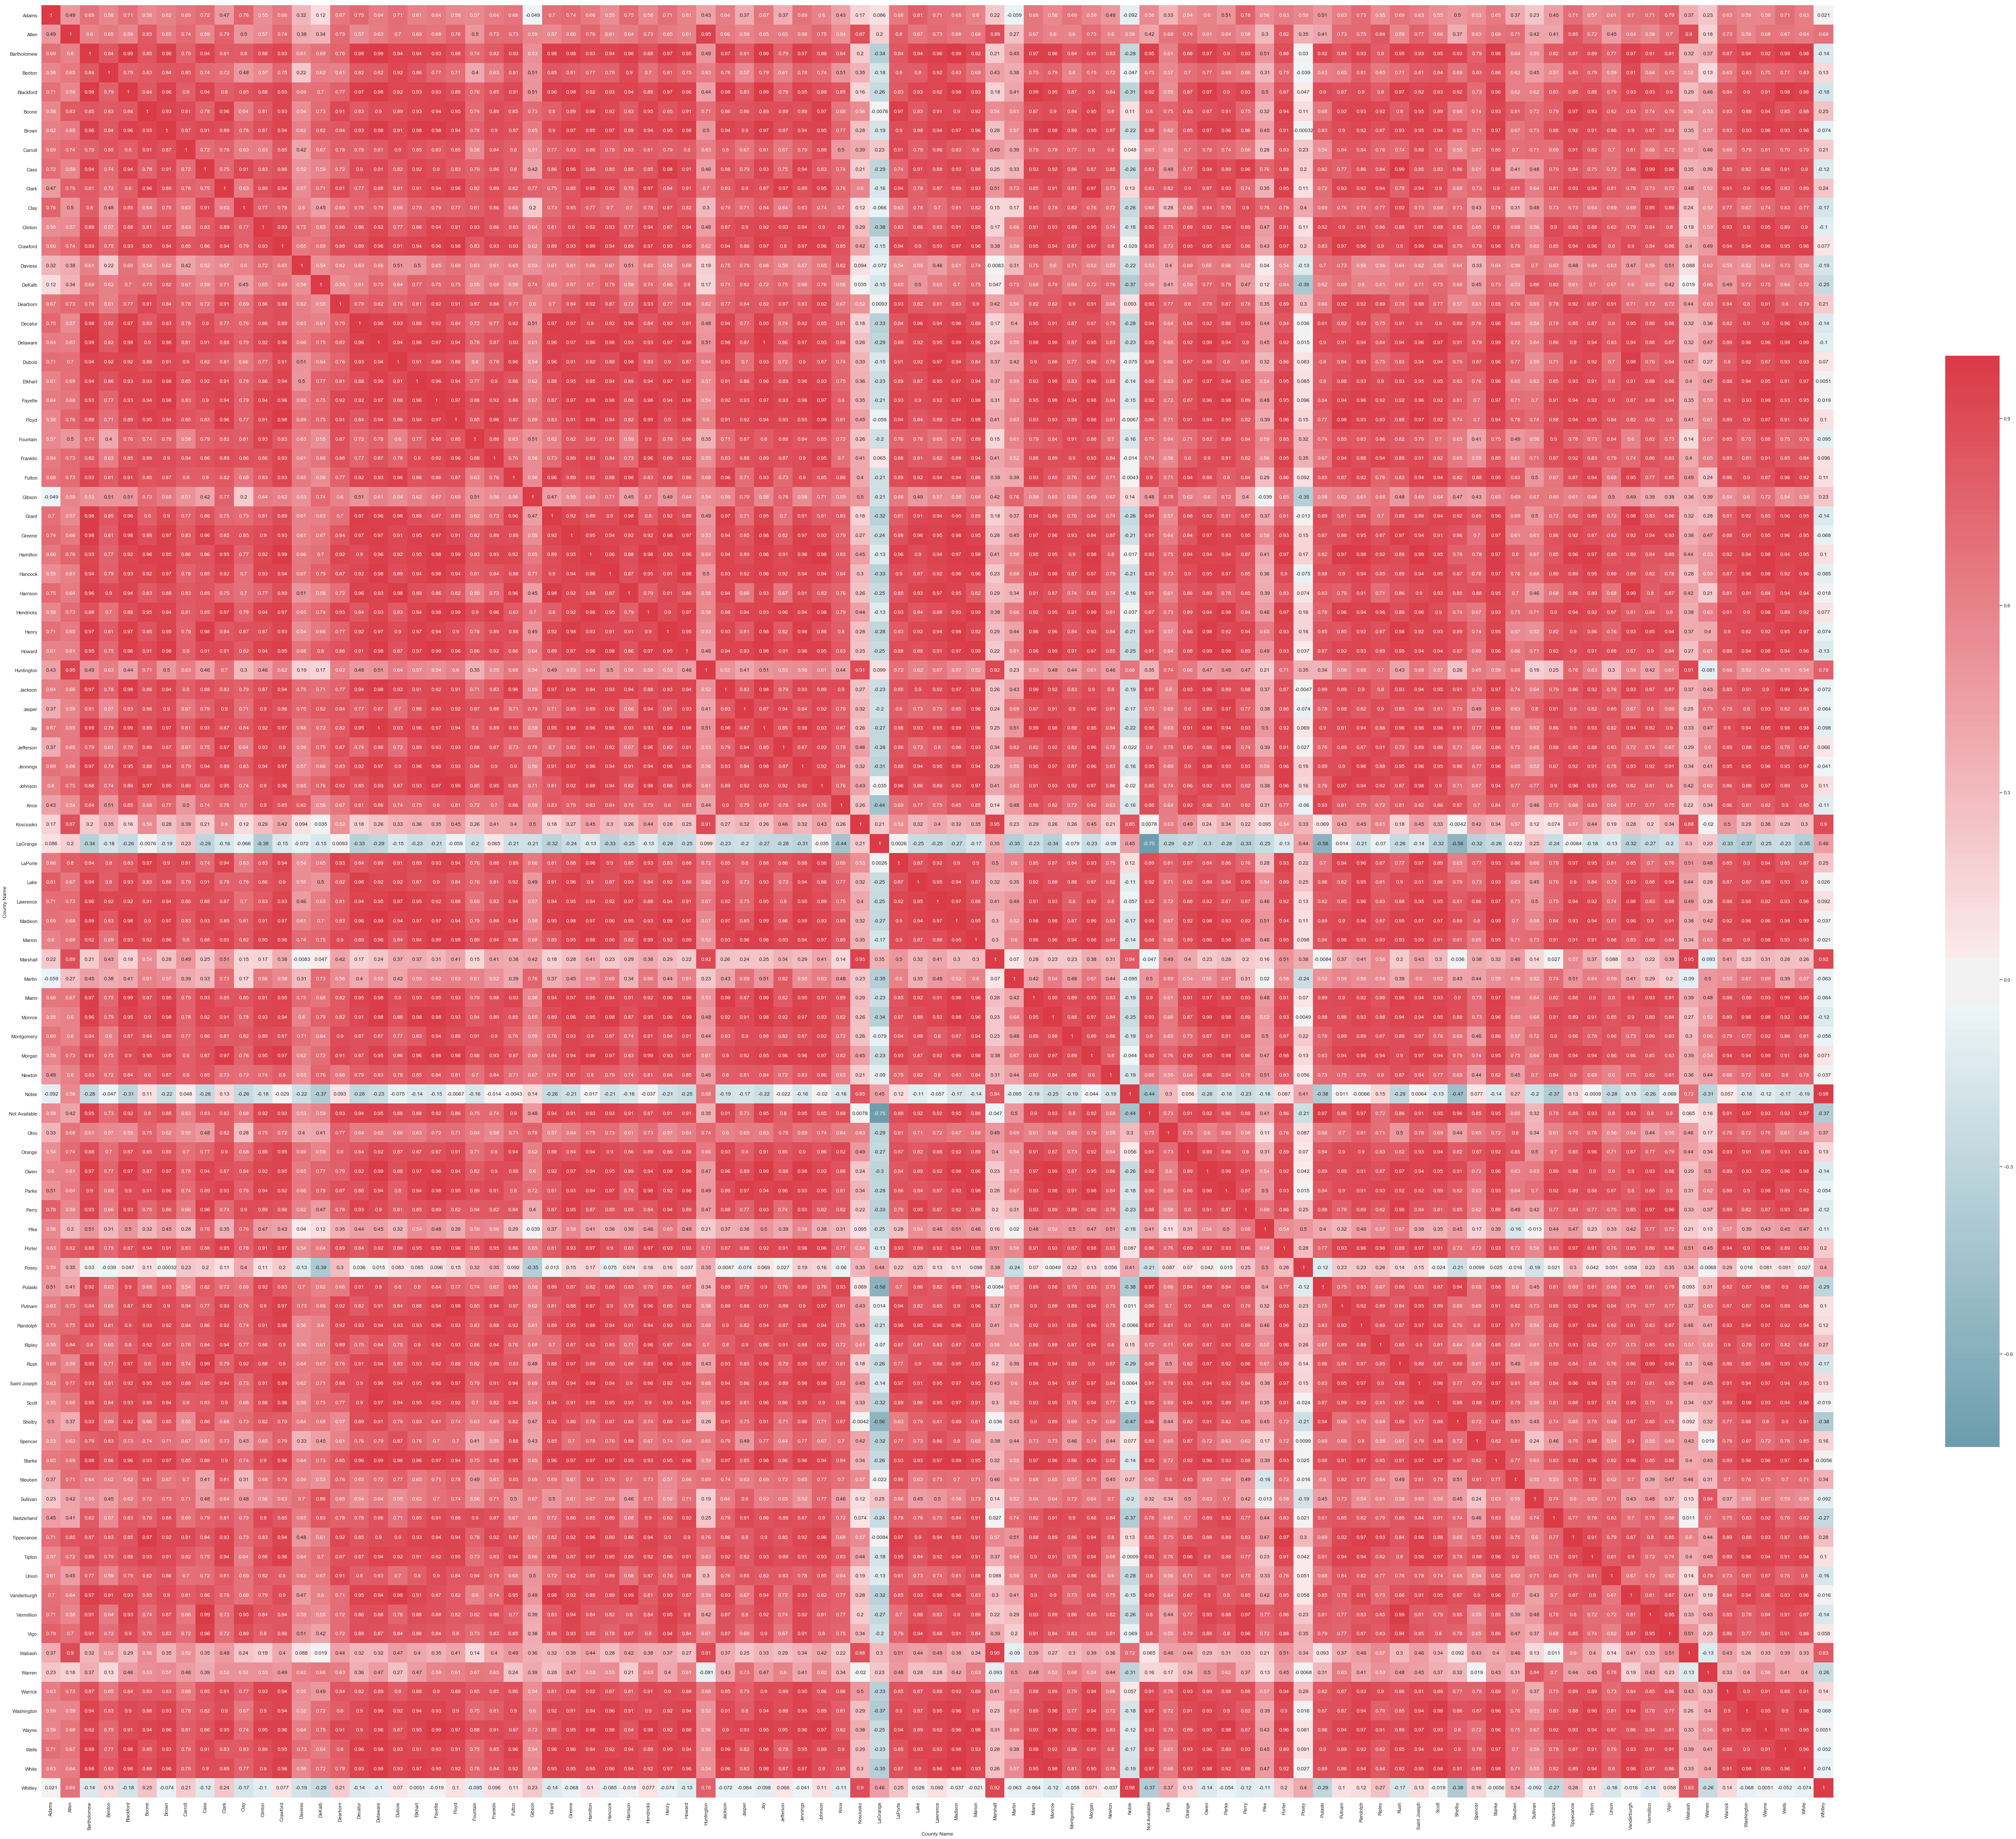

This screenshot's page, from the dashboard's own definition file:
{"tool":"tableau","page":{"name":"County Maps","canvas":[1000,1000],"units":"permille","ordinal":0},"visuals":[{"type":"worksheet","title":"TEDS Map 2008 ","mark":"Multipolygon","box":[5.1,13,95.6,501.2]},{"type":"worksheet","title":"TEDS Map 2009","mark":"Multipolygon","box":[100.7,13,96.9,501.2]},{"type":"worksheet","title":"TEDS Map 2010","mark":"Multipolygon","box":[197.6,13,107.1,501.2]},{"type":"worksheet","title":"TEDS Map 2011","mark":"Multipolygon","box":[304.6,13,98.8,501.2]},{"type":"worksheet","title":"TEDS Map 2012","mark":"Multipolygon","box":[403.4,13,96.2,501.2]},{"type":"worksheet","title":"TEDS Map 2013","mark":"Multipolygon","box":[499.7,13,95,501.2]},{"type":"worksheet","title":"TEDS Map 2014","mark":"Multipolygon","box":[594.6,13,95.6,501.2]},{"type":"worksheet","title":"TEDS Map 2015","mark":"Multipolygon","box":[690.2,13,96.2,501.2]},{"type":"worksheet","title":"TEDS Map 2016","mark":"Multipolygon","box":[786.5,13,106.5,501.2]},{"type":"worksheet","title":"TEDS Map 2017","mark":"Multipolygon","box":[892.9,13,102,501.2]},{"type":"blank","box":[5.1,514.2,989.8,472.9]}]}

Visuals, with their boxes on the dashboard's canvas, which has no fixed pixel size, in thousandths of its width and height (x1, y1, x2, y2). These are canvas units, not pixel positions in the 2016x1839 screenshot, which may show the page scaled, cropped or inside an application window:
"TEDS Map 2008 " worksheet (Multipolygon marks): 5/13/101/514
"TEDS Map 2009" worksheet (Multipolygon marks): 101/13/198/514
"TEDS Map 2010" worksheet (Multipolygon marks): 198/13/305/514
"TEDS Map 2011" worksheet (Multipolygon marks): 305/13/403/514
"TEDS Map 2012" worksheet (Multipolygon marks): 403/13/500/514
"TEDS Map 2013" worksheet (Multipolygon marks): 500/13/595/514
"TEDS Map 2014" worksheet (Multipolygon marks): 595/13/690/514
"TEDS Map 2015" worksheet (Multipolygon marks): 690/13/786/514
"TEDS Map 2016" worksheet (Multipolygon marks): 786/13/893/514
"TEDS Map 2017" worksheet (Multipolygon marks): 893/13/995/514
blank: 5/514/995/987
